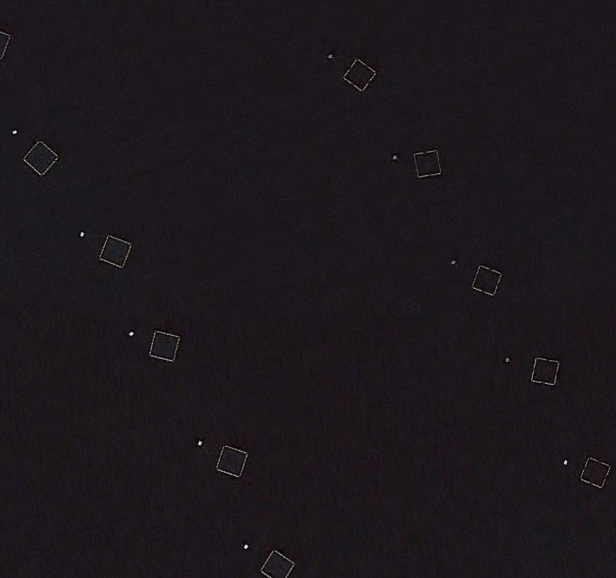square: (464, 255, 517, 310), (90, 220, 139, 272), (339, 53, 386, 103), (17, 132, 65, 178), (140, 319, 189, 364), (209, 438, 255, 482), (527, 344, 566, 392), (577, 445, 616, 493), (407, 138, 447, 184)
